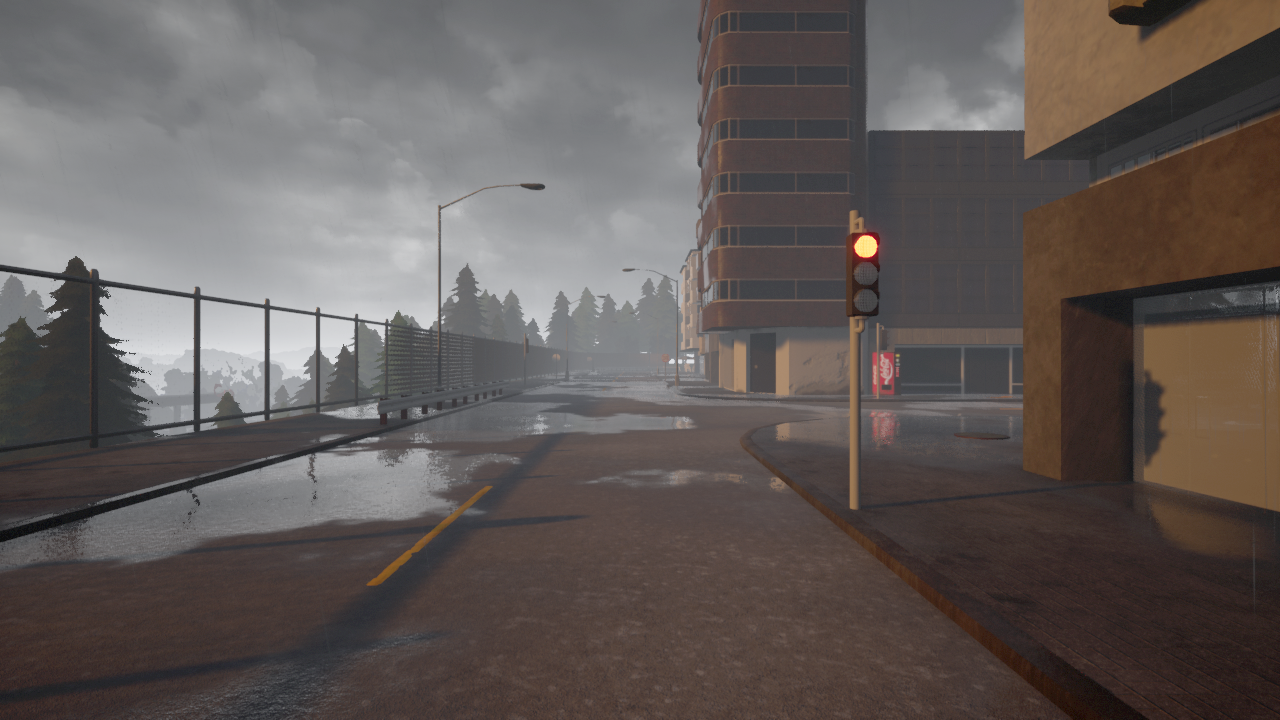red: (842, 227, 882, 320)
